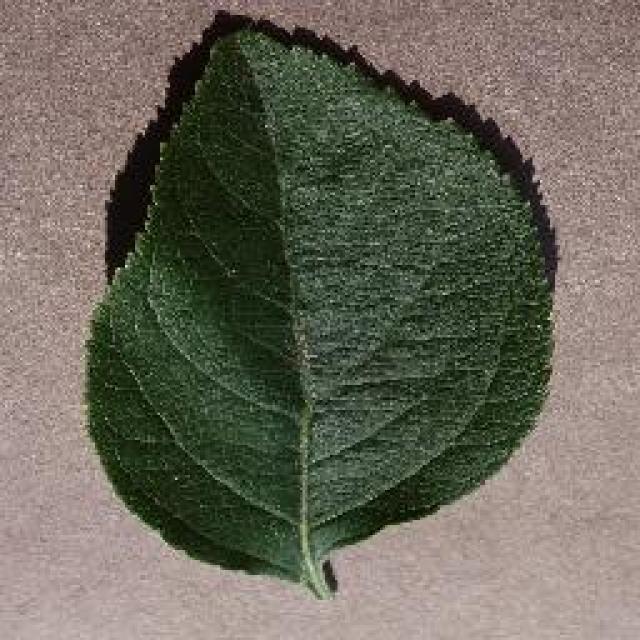apple healthy: (80, 10, 560, 598)
